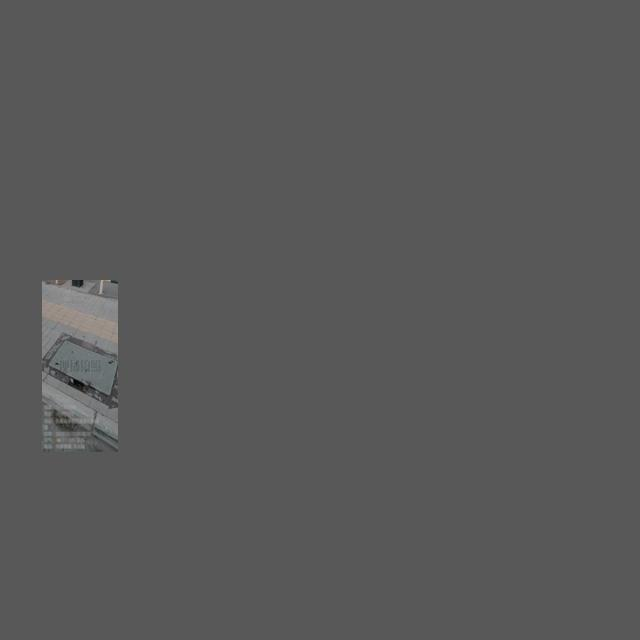circle: (41, 331, 118, 400)
